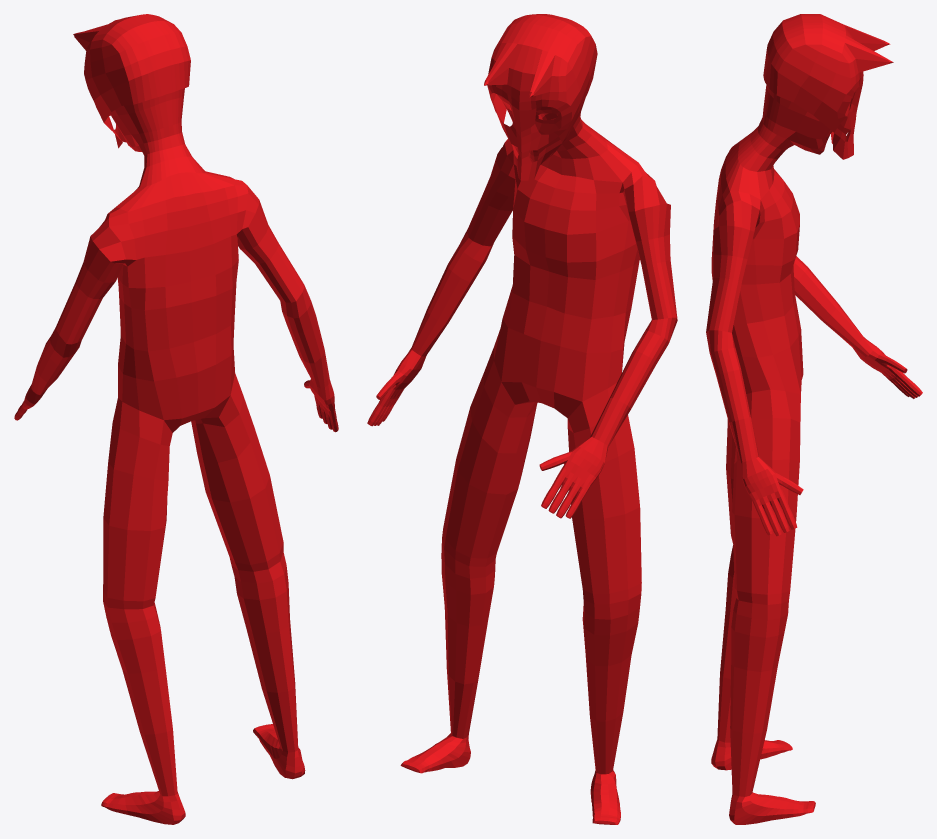
The model's file is reposoE_000312.obj.
3 views of the same model, side by side, from view 1: azimuth 30°, elevation 25°; view 2: azimuth 150°, elevation 25°; view 3: azimuth 270°, elevation 25° (orthographic). The views are drawn at different scales.
Parts seen in each view (by area): view 1: Plane.002_Plane.001; view 2: Plane.002_Plane.001; view 3: Plane.002_Plane.001.
Part boxes in pixels (left/top/right/bottom): Plane.002_Plane.001: left=14, top=14, right=338, bottom=824; Plane.002_Plane.001: left=367, top=14, right=677, bottom=824; Plane.002_Plane.001: left=706, top=14, right=922, bottom=824.
Bounding box in the file's own units: 2.74 × 7.13 × 1.86.
